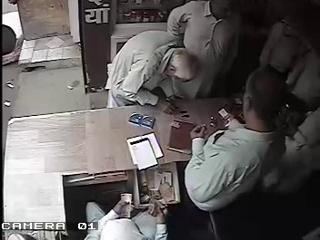Normal: (184, 66, 291, 239), (105, 0, 242, 109), (259, 0, 320, 120), (88, 193, 168, 240)
